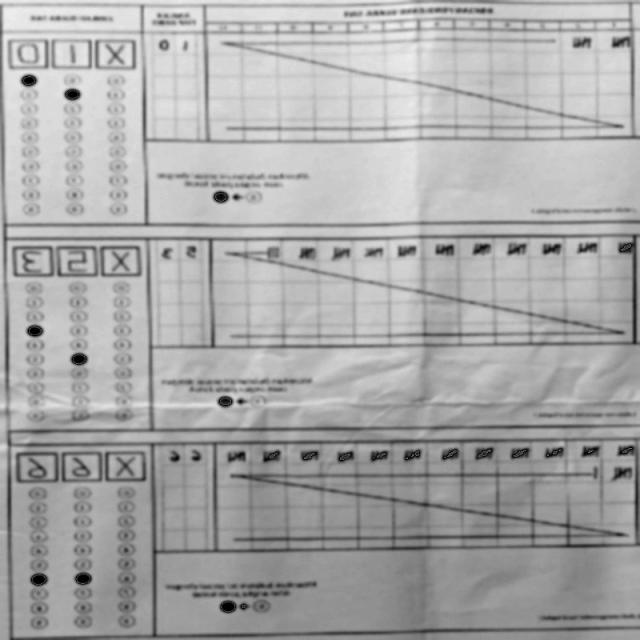Suara: (10, 236, 144, 278), (14, 447, 153, 482), (8, 35, 138, 70)
